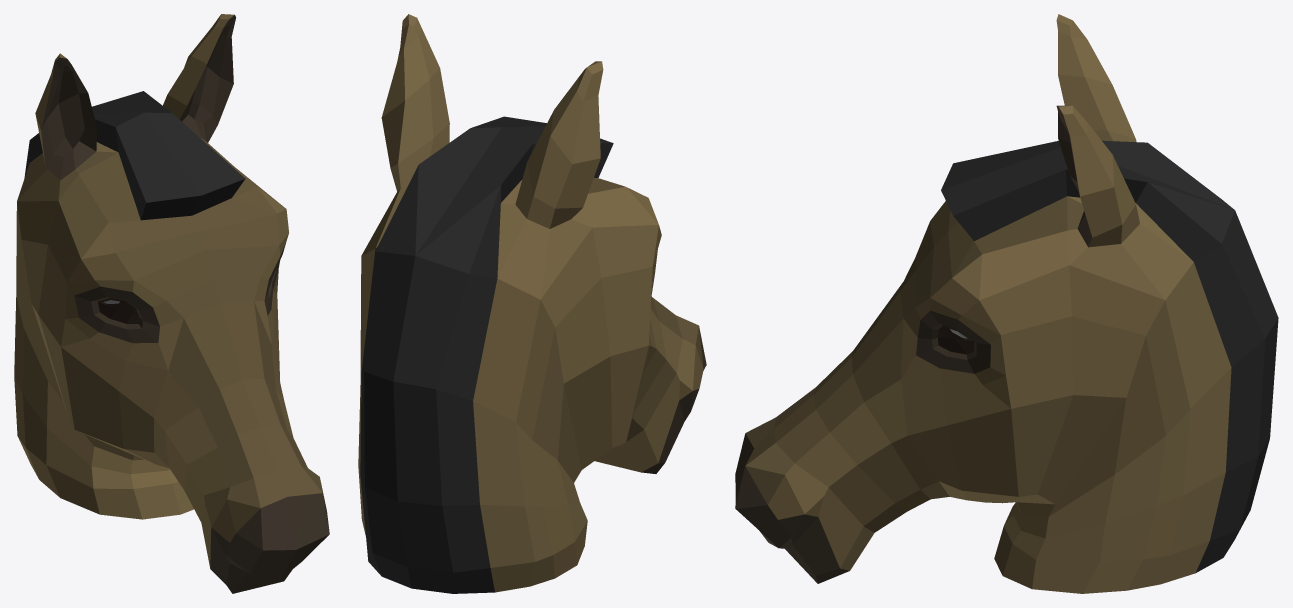
File: Horse.fbx
3 renders of one model, left to right at view 1: azimuth 30°, elevation 25°; view 2: azimuth 150°, elevation 25°; view 3: azimuth 270°, elevation 25°, orthographic. The views are drawn at different scales.
Parts seen in each view (by area): view 1: Horse_Head; view 2: Horse_Head; view 3: Horse_Head.
Part boxes in pixels (bbox=[...]): Horse_Head: bbox=[14, 14, 329, 593]; Horse_Head: bbox=[358, 14, 706, 593]; Horse_Head: bbox=[735, 14, 1278, 593].
Size of the model in its own units: 21.74 by 45.19 by 43.6.
